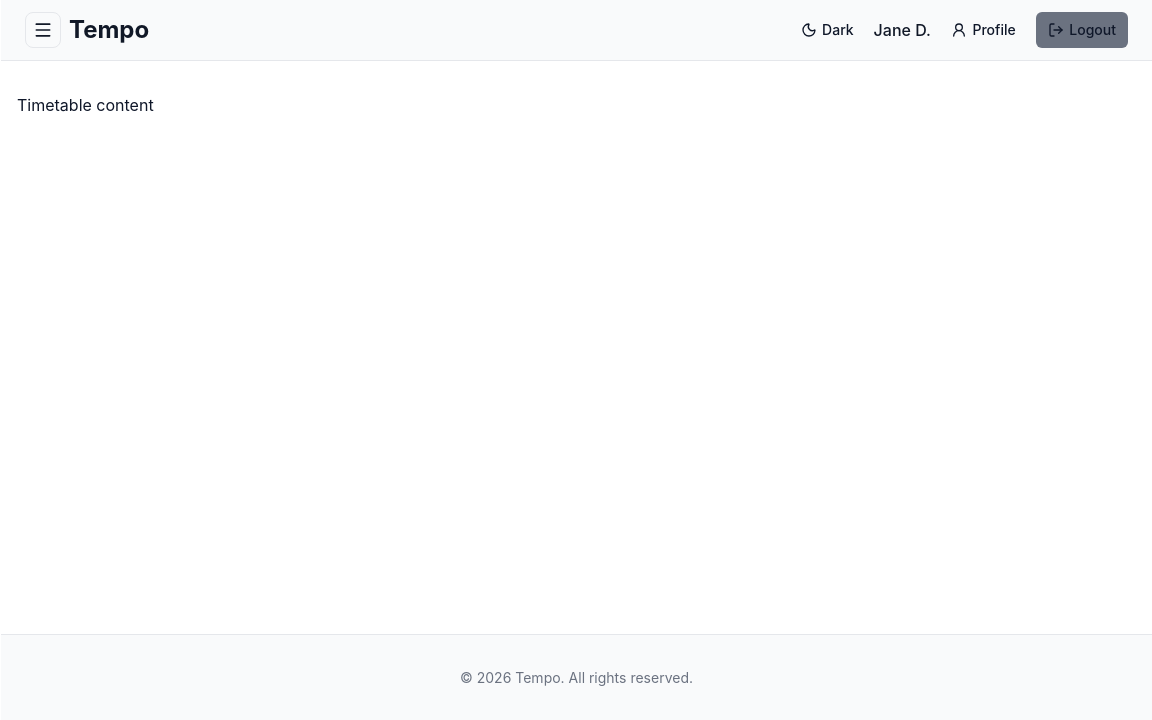
Test: ProtectedLayout sidebar collapse › starts collapsed on mobile and can be opened from the header
Click the button named "open sidebar" at point(43, 30), box [25,12,61,48]
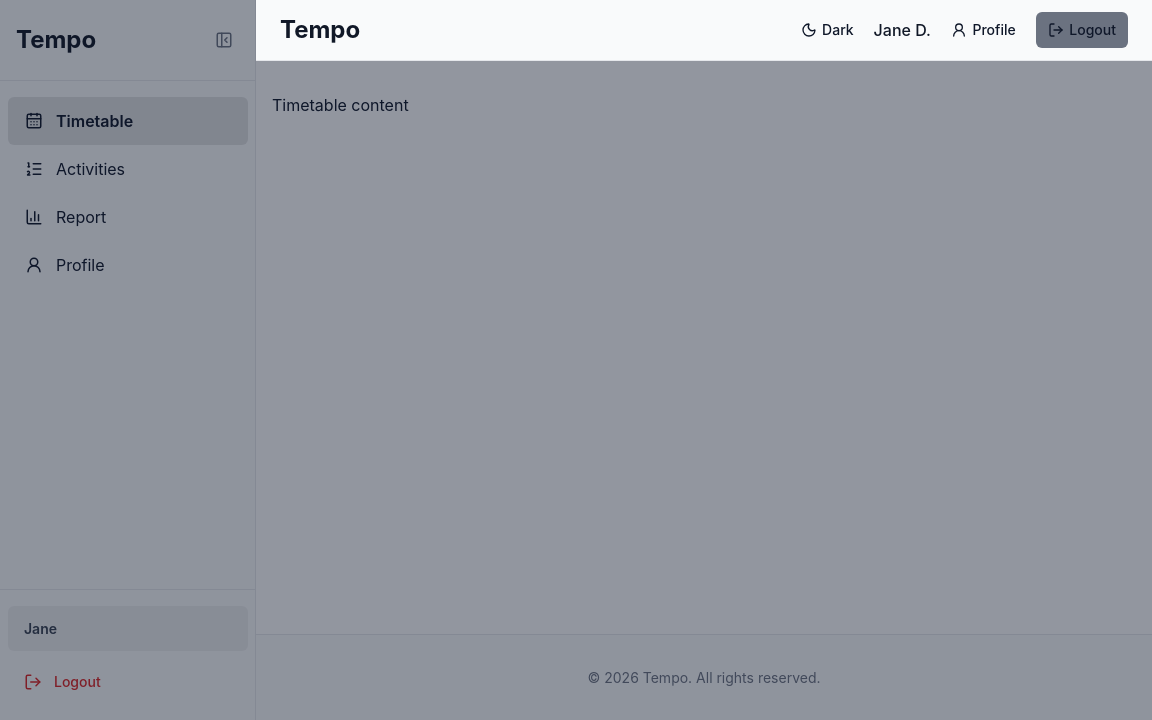
Check: the button named "close sidebar" is shown
Check: the button named "collapse sidebar" is shown, box [208,24,240,56]
